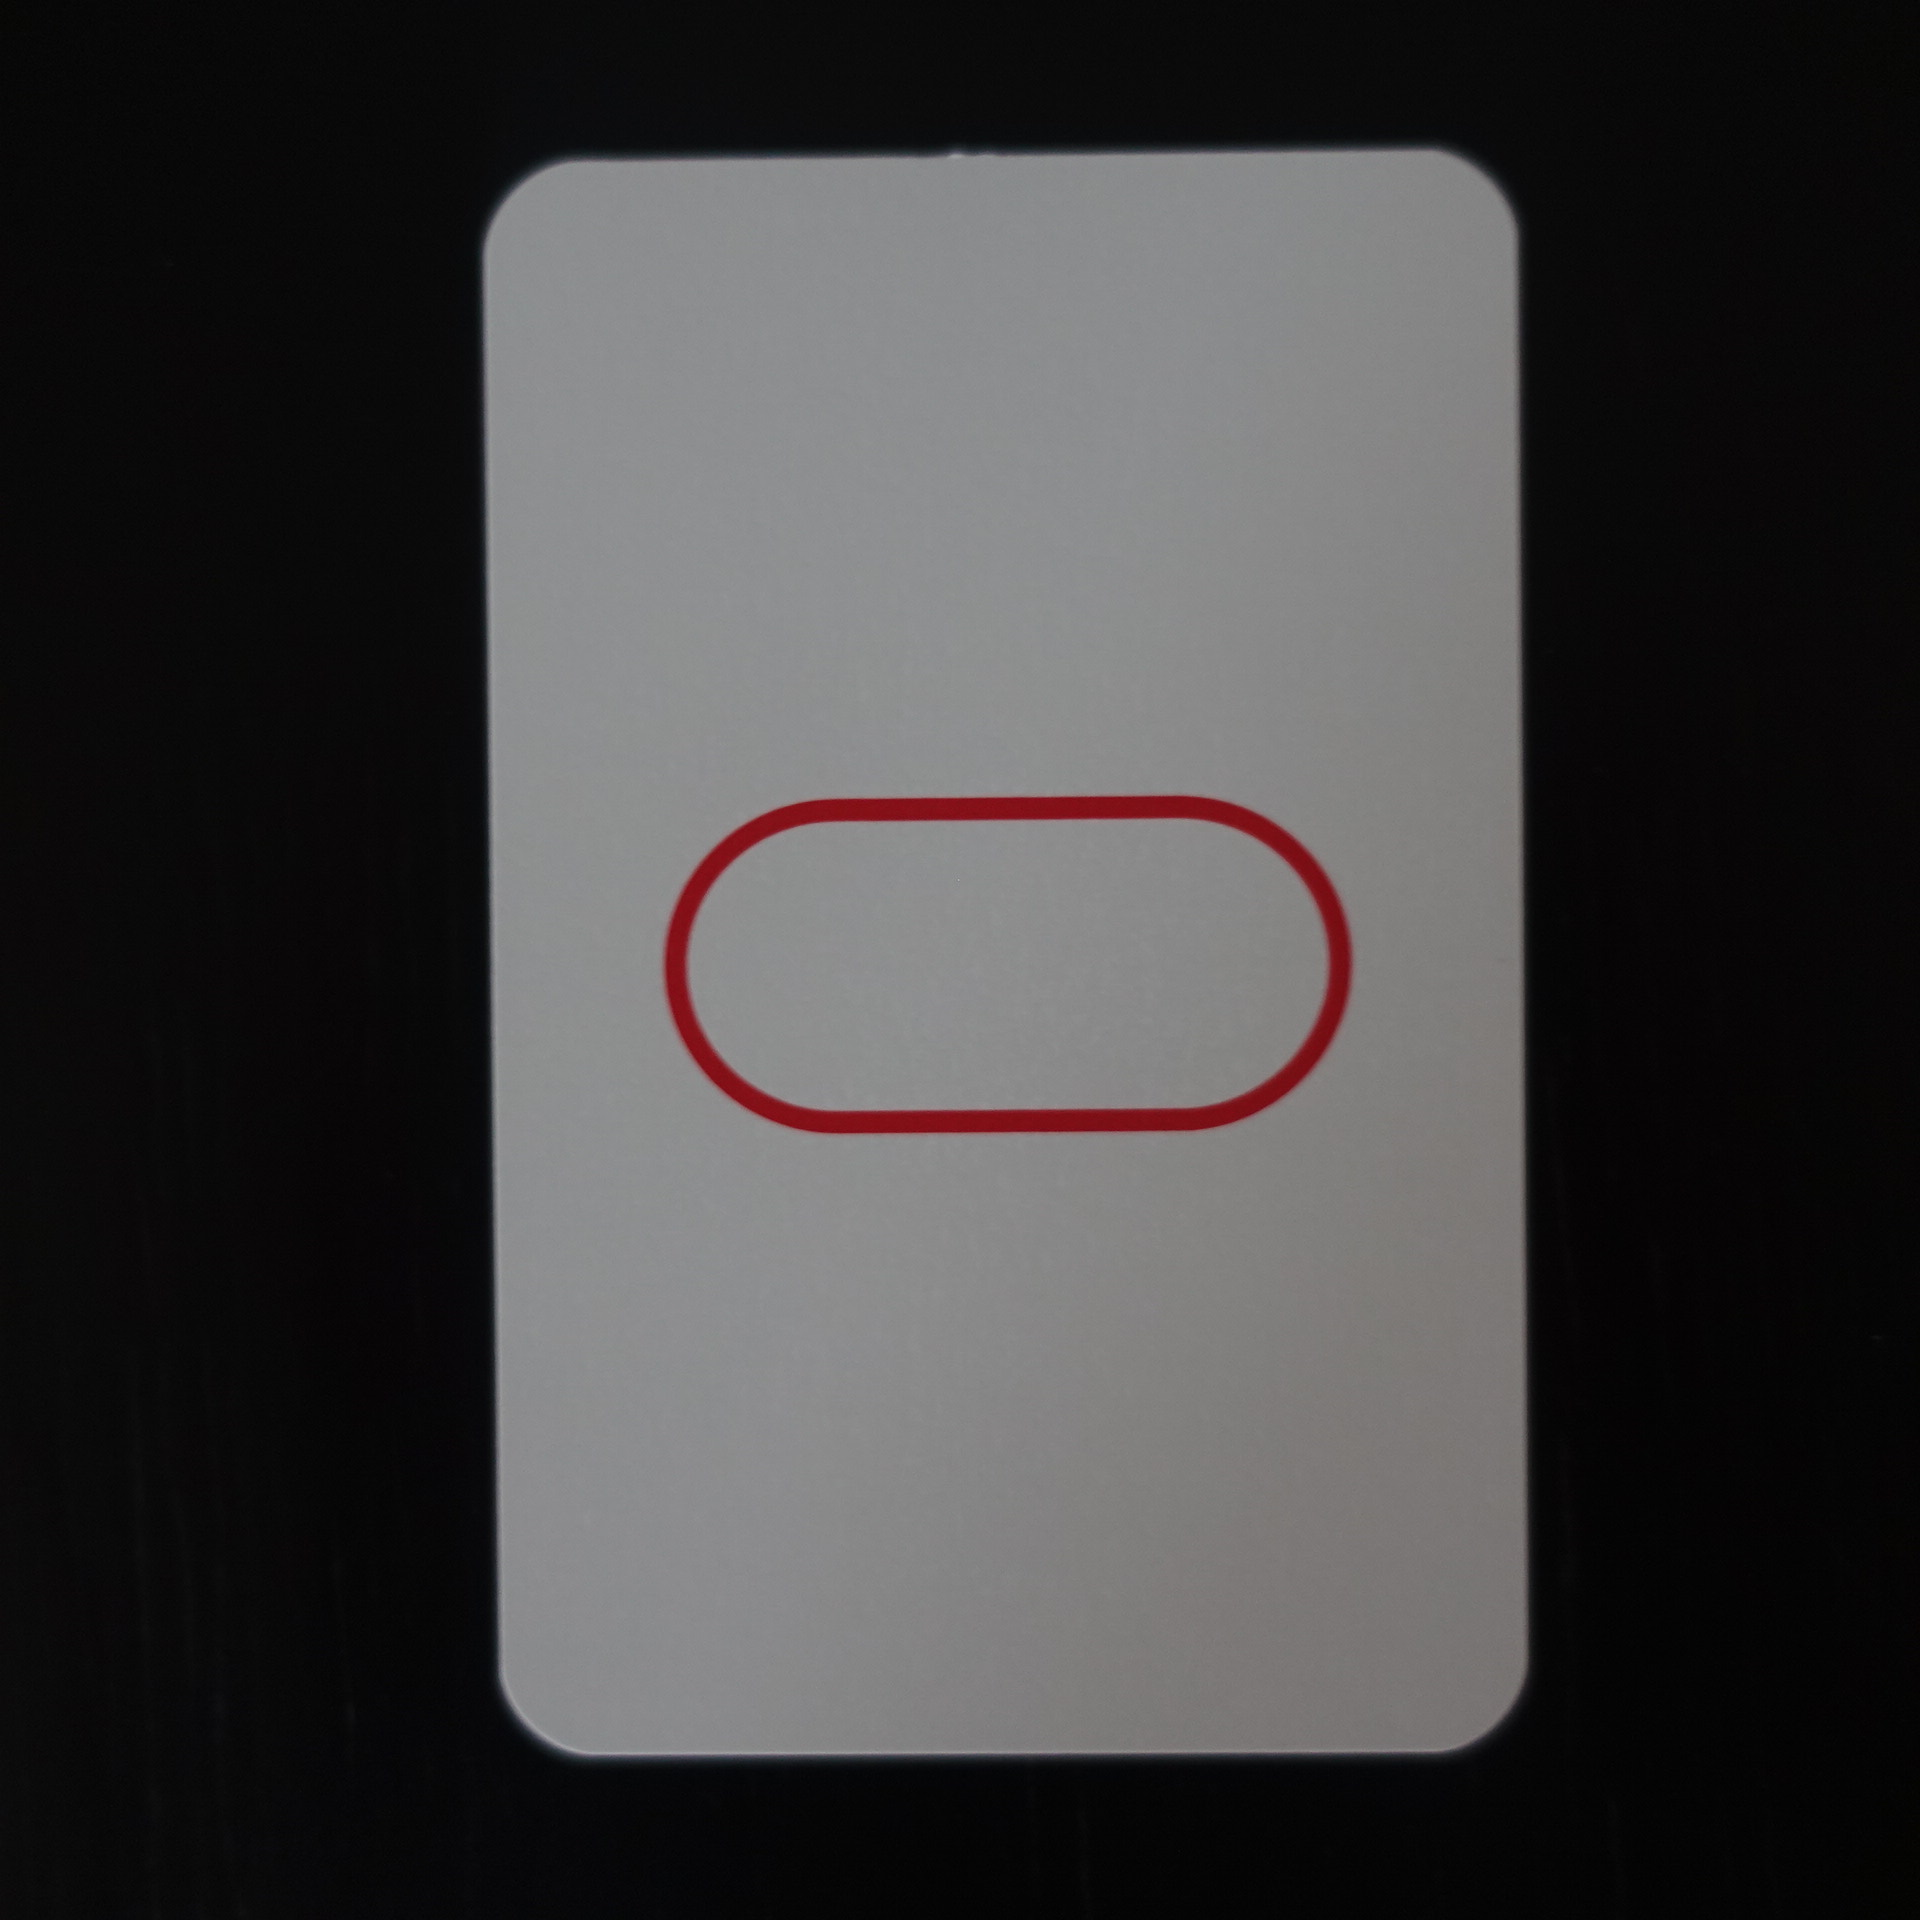c-1-u-o-r: (455, 128, 1568, 1800)
